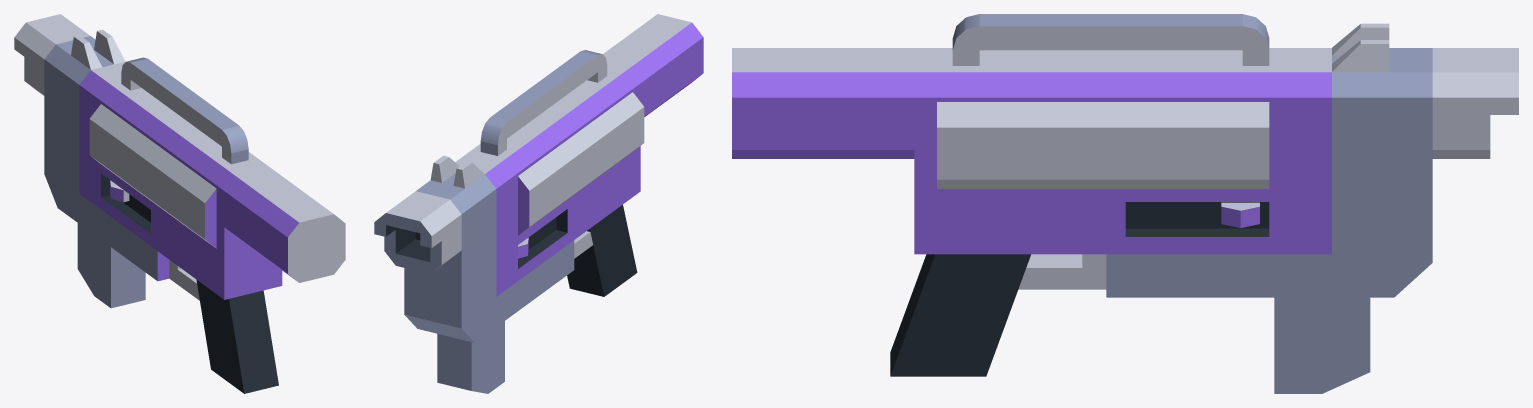
File: blasterA.dae
3 renders of one model, left to right at view 1: azimuth 30°, elevation 25°; view 2: azimuth 150°, elevation 25°; view 3: azimuth 270°, elevation 25°, orthographic. The views are drawn at different scales.
Visible parts, largest first — view 1: blasterA; view 2: blasterA; view 3: blasterA.
Part boxes in pixels (x1,y1,x2,y2): blasterA: [14, 14, 345, 393]; blasterA: [374, 14, 703, 393]; blasterA: [732, 14, 1518, 393].
Bounding box in the file's own units: 0.14 × 0.4159 × 0.82.
